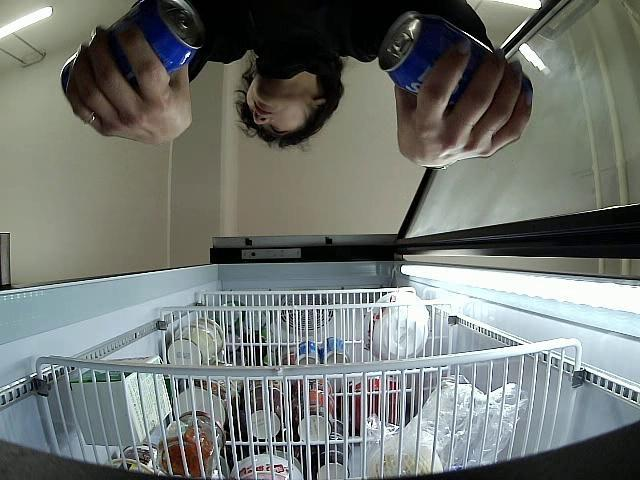13_pocariSweat: (60, 0, 201, 115), (378, 12, 532, 114)
